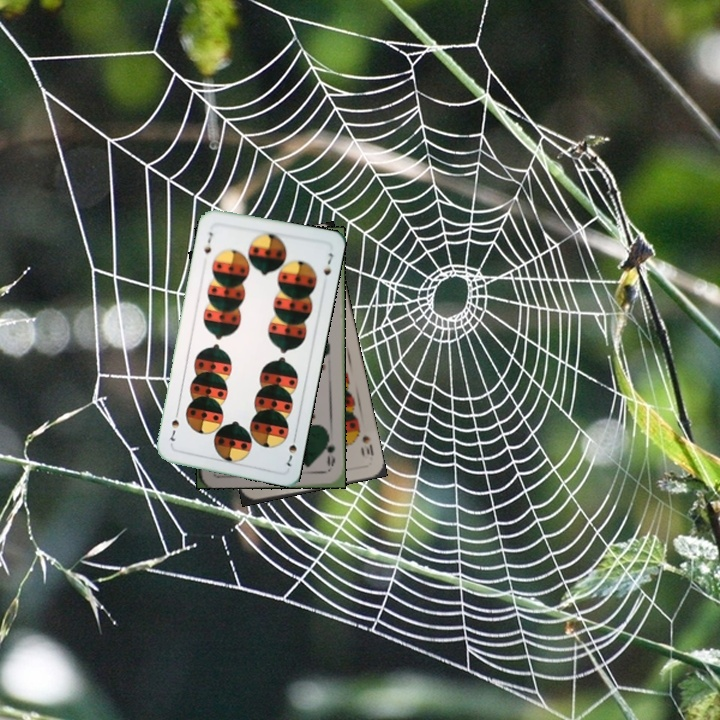GO: (321, 431, 338, 469)
S10: (357, 431, 376, 460)
S7: (282, 430, 299, 469), (200, 228, 215, 256)
